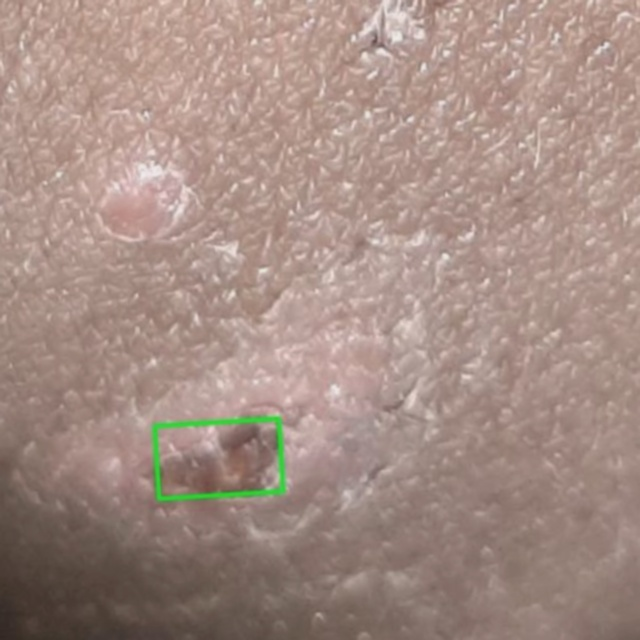Contact Dermatitis: (154, 418, 283, 498)
